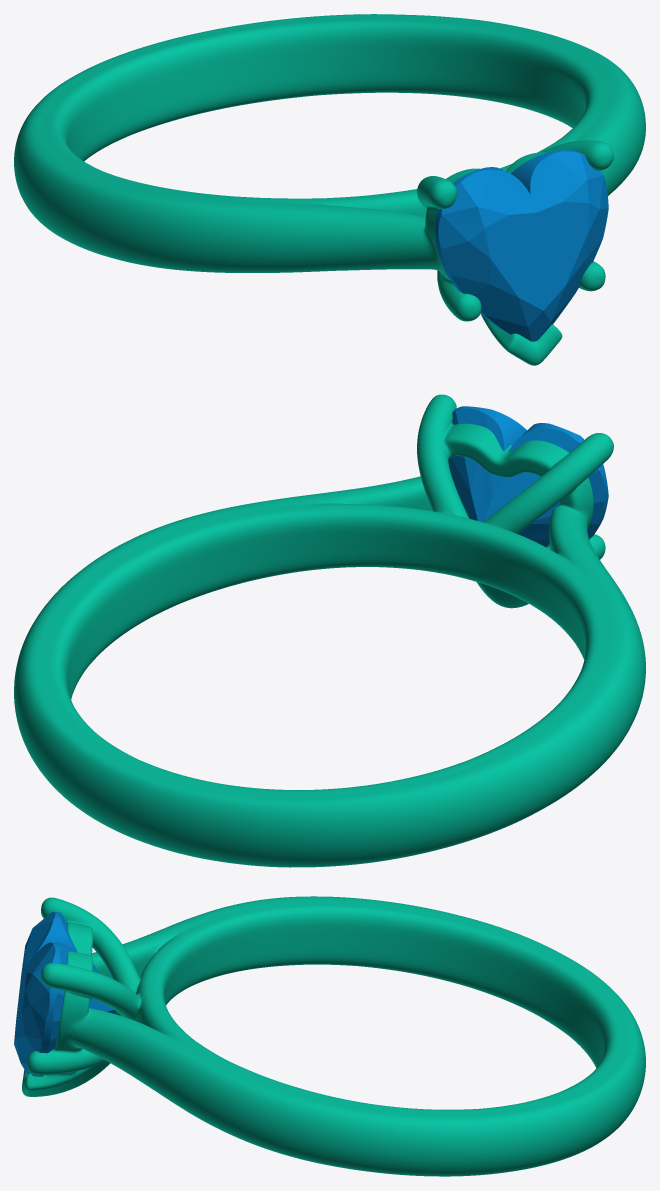
The picture shows the model from 3 angles, top to bottom: view 1: azimuth 30°, elevation 25°; view 2: azimuth 150°, elevation 25°; view 3: azimuth 270°, elevation 25°; orthographic projection. The views are drawn at different scales.
Parts seen in each view (by area): view 1: FOR RENDER.3dm, Diamond_Heart; view 2: FOR RENDER.3dm, Diamond_Heart; view 3: FOR RENDER.3dm, Diamond_Heart.
Boxes of the visible parts, x1,y1,x2,y2 form: FOR RENDER.3dm: (14, 14, 645, 365); Diamond_Heart: (435, 150, 608, 341); FOR RENDER.3dm: (14, 394, 645, 867); Diamond_Heart: (448, 406, 608, 546); FOR RENDER.3dm: (22, 896, 645, 1176); Diamond_Heart: (14, 911, 116, 1076).
Size of the model in its own units: 2.54 by 0.8544 by 2.97.
